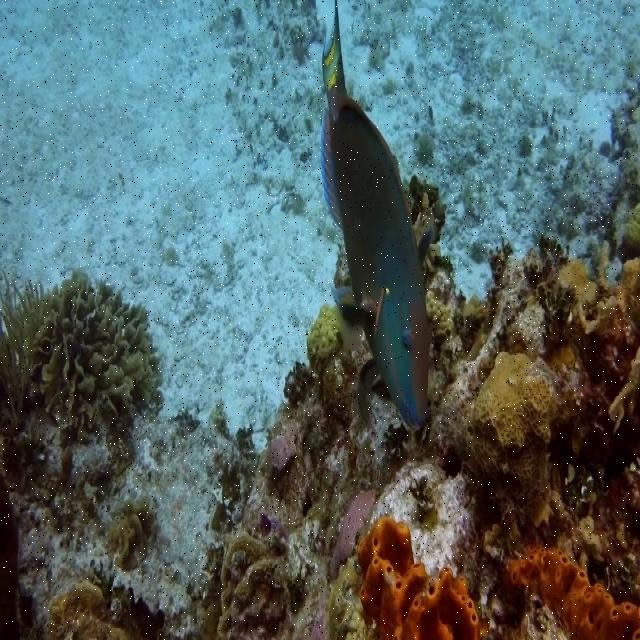reefs: (0, 266, 164, 462), (355, 514, 481, 638), (503, 542, 639, 639), (469, 351, 554, 485), (306, 299, 343, 376), (426, 290, 455, 338)
